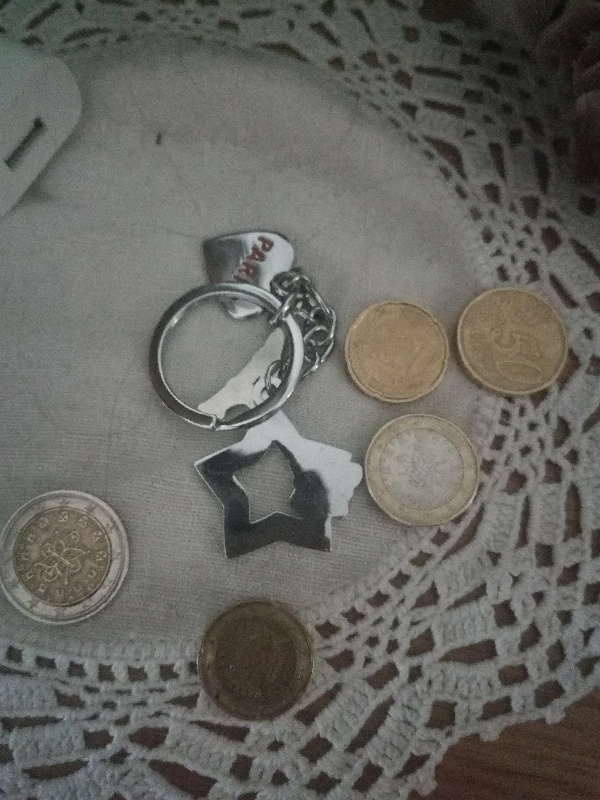1 euro: (363, 412, 482, 527)
2 euros: (1, 489, 133, 628)
20 centimos: (195, 598, 314, 723), (343, 299, 453, 407)
50 centimos: (453, 288, 569, 398)
